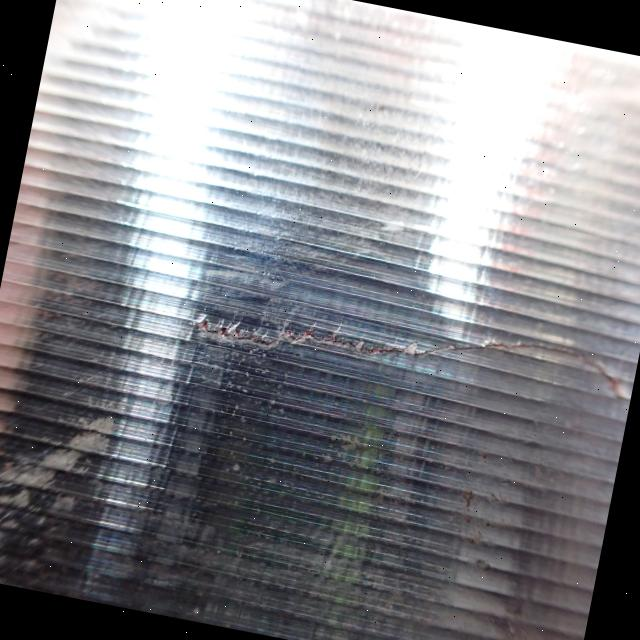Contact_Fatigue_Cracks: (175, 270, 640, 418)
